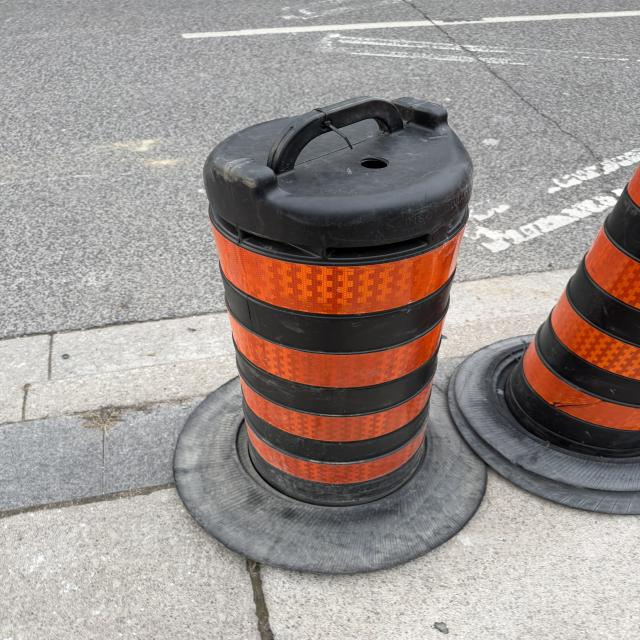Teraffic Barrel: (174, 97, 486, 573), (449, 169, 640, 514)
